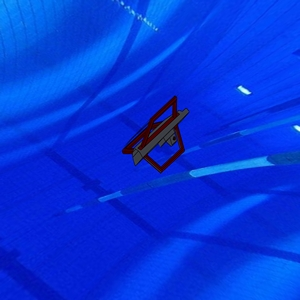submarine: (110, 81, 204, 183)
